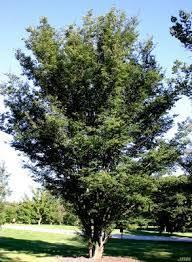tree: (2, 11, 182, 262)
